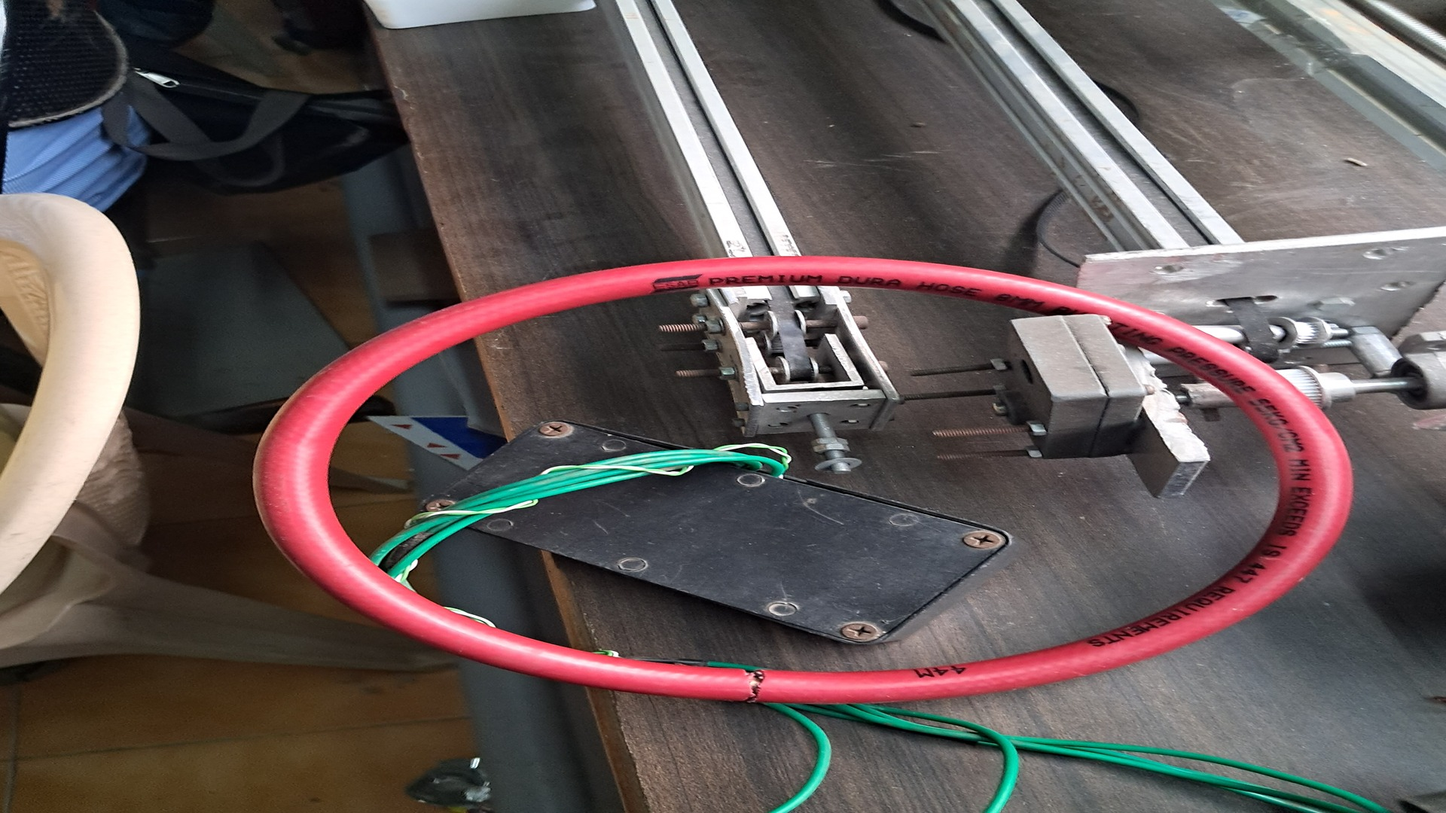Red ring: (256, 256, 1359, 702)
